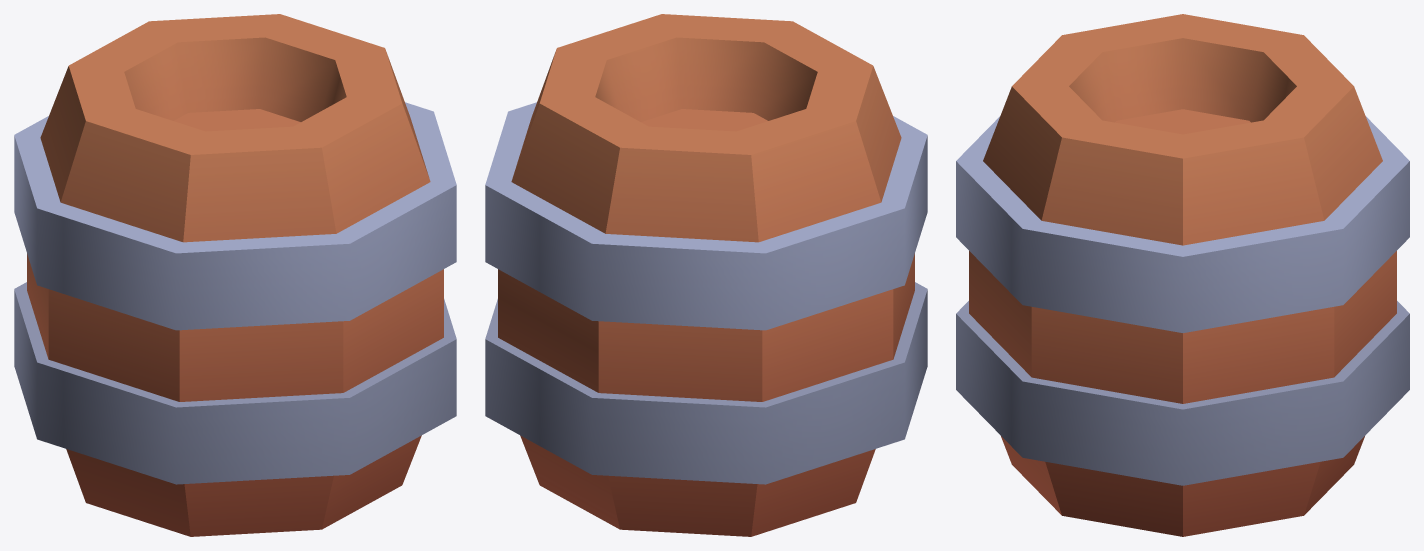
Rendered from barrel.obj.
3 renders of one model, left to right at view 1: azimuth 30°, elevation 25°; view 2: azimuth 150°, elevation 25°; view 3: azimuth 270°, elevation 25°, orthographic.
Parts seen in each view (by area): view 1: barrel; view 2: barrel; view 3: barrel.
Part boxes in pixels (x1=…): barrel: x1=14, y1=14, x2=456, y2=536; barrel: x1=485, y1=14, x2=927, y2=536; barrel: x1=956, y1=14, x2=1409, y2=536.
Bounding box in the file's own units: 0.5176 × 0.4762 × 0.5176.
1 material, 1 textured.
